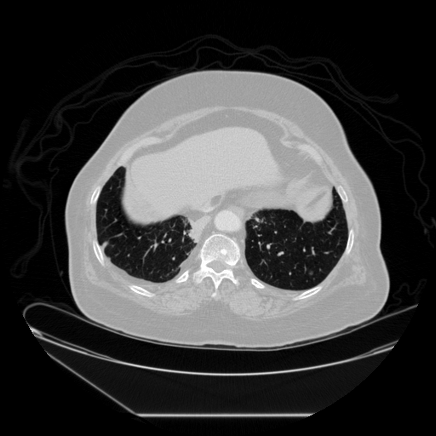nodule: (309, 271, 313, 275)
